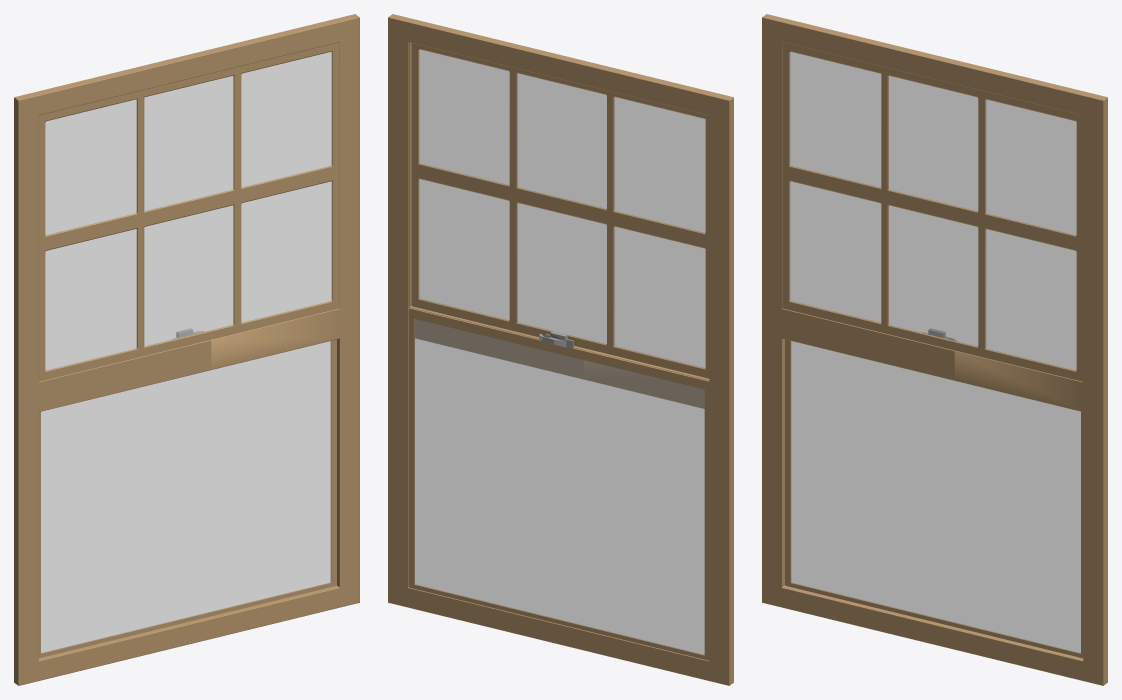
The model's file is window3.obj.
The picture shows the model from 3 angles, left to right: view 1: azimuth 30°, elevation 25°; view 2: azimuth 150°, elevation 25°; view 3: azimuth 330°, elevation 25°; orthographic projection.
Visible parts, largest first — view 1: pCube27, pCube26, pCube30, pCube28, pCube29; view 2: pCube27, pCube26, pCube30, pCube28, pCube29; view 3: pCube27, pCube26, pCube30, pCube28, pCube29.
Part boxes in pixels (x1,y1,x2,y2): pCube27: [41, 341, 330, 653]; pCube26: [45, 52, 331, 370]; pCube30: [14, 14, 359, 685]; pCube28: [38, 42, 339, 381]; pCube29: [38, 328, 336, 658]; pCube27: [414, 319, 704, 654]; pCube26: [419, 49, 705, 368]; pCube30: [388, 14, 733, 685]; pCube28: [411, 43, 709, 378]; pCube29: [408, 307, 709, 660]; pCube27: [791, 341, 1080, 653]; pCube26: [790, 52, 1076, 370]; pCube30: [762, 14, 1107, 685]; pCube28: [782, 42, 1083, 381]; pCube29: [785, 328, 1083, 658].
Bounding box in the file's own units: 76.21 × 125 × 2.35.
